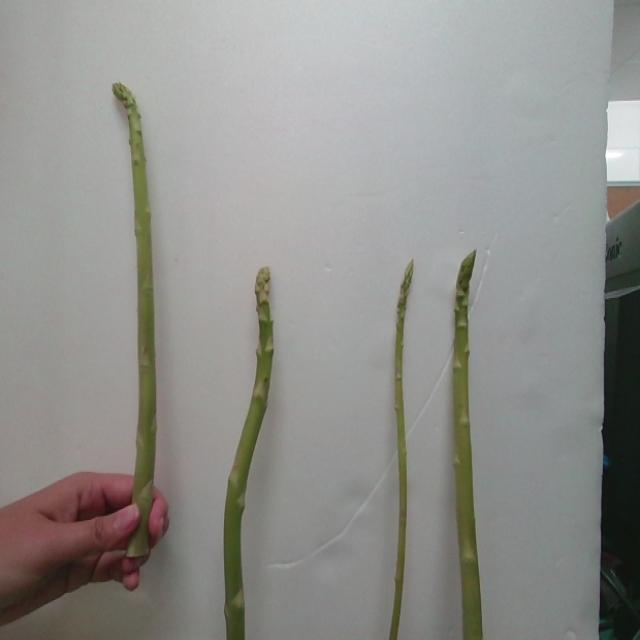aspargus: (112, 85, 157, 566), (225, 267, 275, 640), (453, 253, 485, 640), (387, 262, 419, 640)
